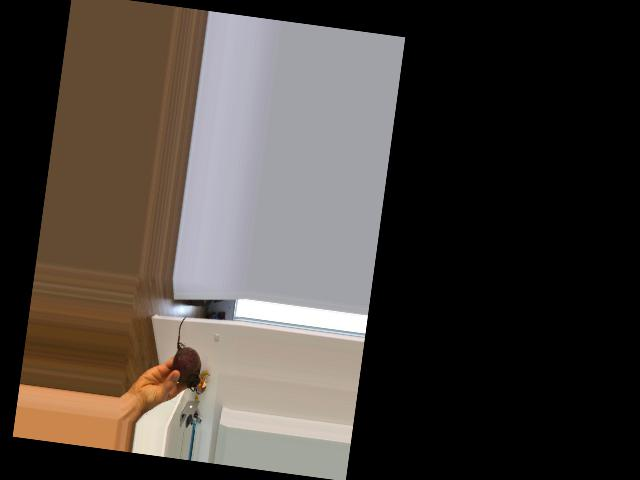beet: (169, 314, 208, 391)
